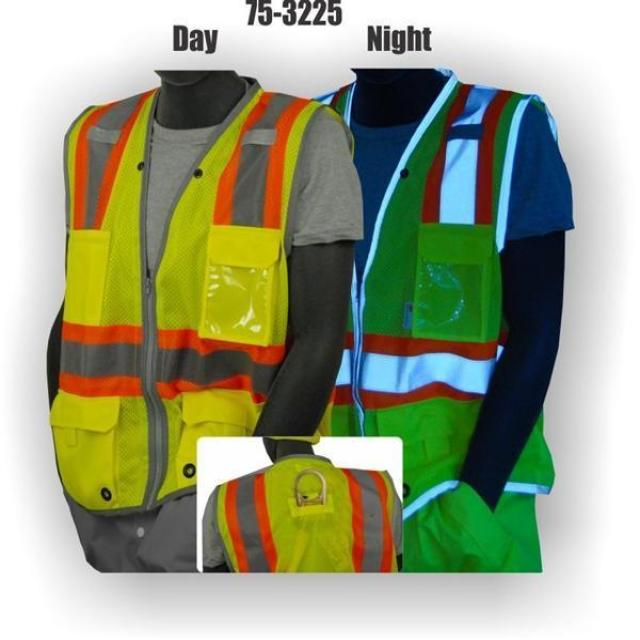Vest: (51, 82, 356, 520), (305, 75, 561, 504), (217, 455, 398, 575)
